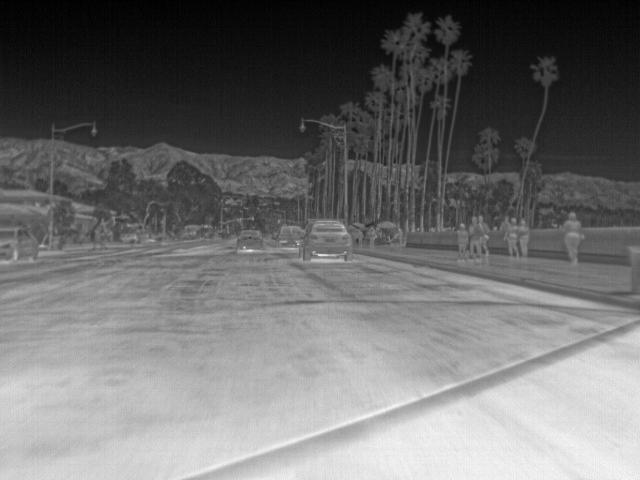car: (300, 218, 351, 260), (0, 227, 42, 262), (236, 228, 266, 249), (278, 224, 302, 248)
person: (562, 211, 585, 268), (477, 214, 494, 257), (468, 215, 482, 257), (506, 218, 520, 259), (517, 218, 531, 258), (454, 223, 470, 257)
